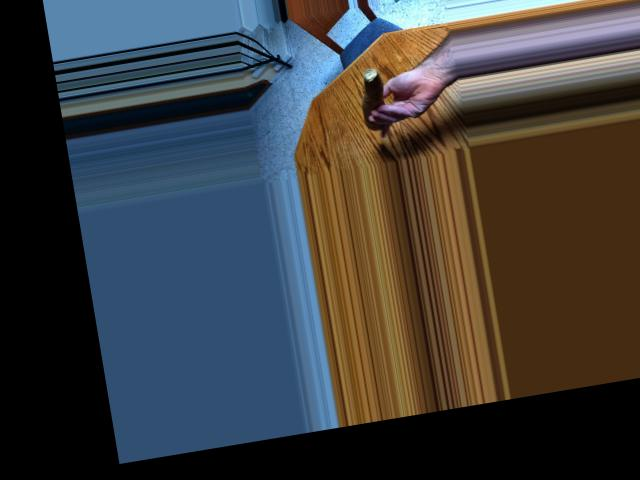sweet_potato: (353, 68, 395, 125)
